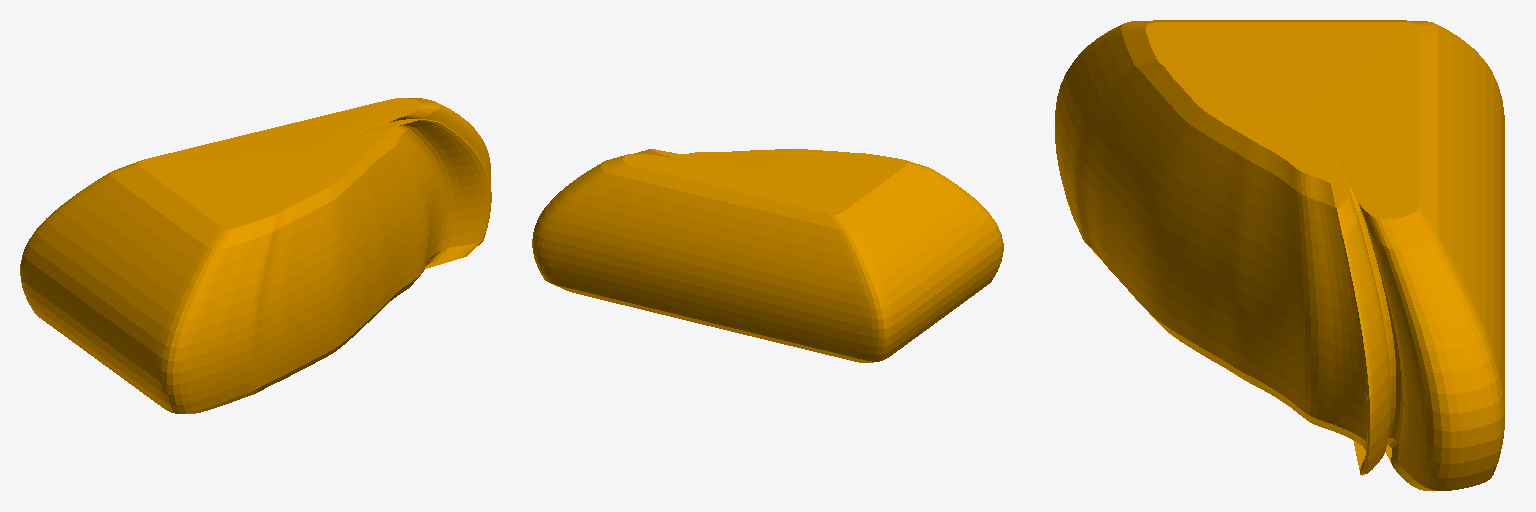
The robot description file, URDF, robot "bread":
<?xml version="1.0"?>
<robot name="bread">
  <link name="base_link">
    <inertial>
      <origin xyz="0 0 0" rpy="0 0 0"/>
      <mass value="0.076000"/>
      <inertia ixx="0.00004117" ixy="0.0" ixz="0.0"
               iyy="0.00010133" iyz="0.0"
               izz="0.00012223"/>
    </inertial>
    <visual>
      <origin xyz="0 0 0" rpy="0 0 0"/>
      <geometry><mesh filename="../mesh/visual_mesh.obj" scale="1 1 1"/></geometry>
    </visual>
    <collision>
      <origin xyz="0 0 0" rpy="0 0 0"/>
      <geometry><mesh filename="../mesh/collision_mesh.obj" scale="1 1 1"/></geometry>
    </collision>
  </link>
</robot>

--- What the picture shows (computed from the rendered views, not written in the file) ---
The picture shows the robot from 3 angles, left to right: view 1: azimuth 30°, elevation 25°; view 2: azimuth 150°, elevation 25°; view 3: azimuth 270°, elevation 25°; orthographic projection.
Robot: bread — 1 links, 0 joints (none); root link base_link; default pose: all joints at 0.
Visible links, largest first — view 1: base_link; view 2: base_link; view 3: base_link.
Boxes of the visible links, <box> form: base_link: <box>20,98,491,413</box>; base_link: <box>532,149,1003,362</box>; base_link: <box>1055,20,1504,491</box>.
Bounding box of the posed robot: 0.12 × 0.07 × 0.04 m (x, y, z).
Meshes: 1 distinct files referenced, 1 mesh visuals loaded (1 OBJ).
